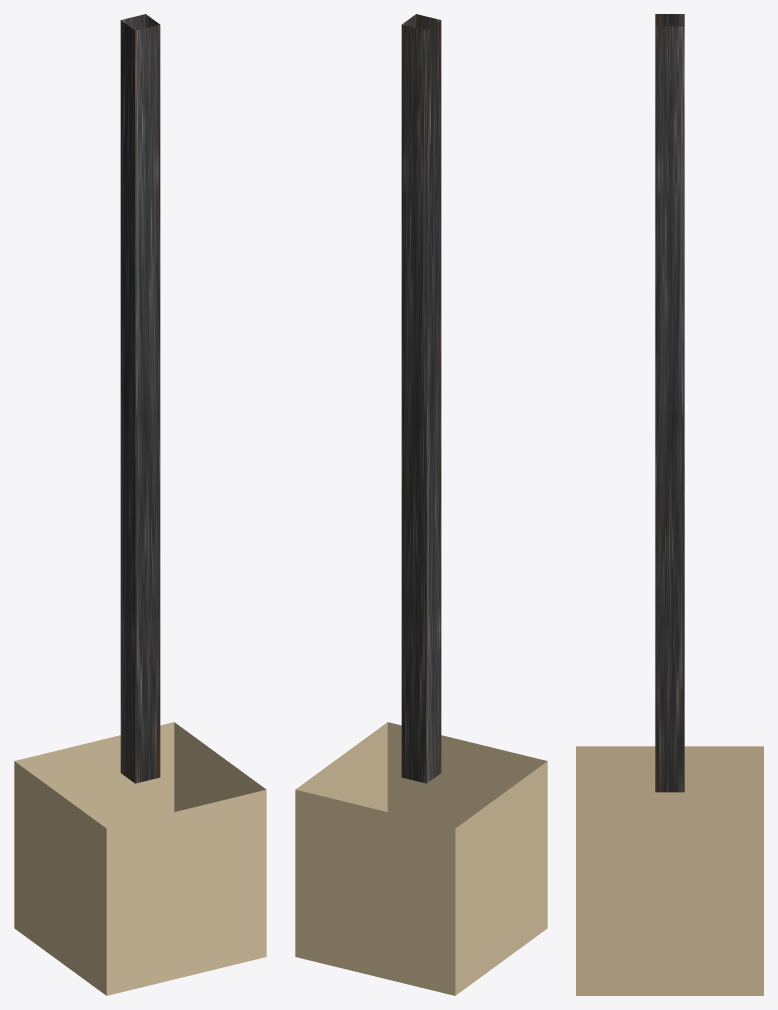
The model's file is SuppliesDoorBulb.fbx.
3 renders of one model, left to right at view 1: azimuth 30°, elevation 25°; view 2: azimuth 150°, elevation 25°; view 3: azimuth 270°, elevation 25°, orthographic.
Visible parts, largest first — view 1: SuppliesDoorBulb; view 2: SuppliesDoorBulb; view 3: SuppliesDoorBulb.
Part boxes in pixels (<box>): SuppliesDoorBulb: <box>14,14,266,995</box>; SuppliesDoorBulb: <box>295,14,547,995</box>; SuppliesDoorBulb: <box>576,14,763,995</box>.
Bounding box in the file's own units: 0.16 × 0.88 × 0.16.
